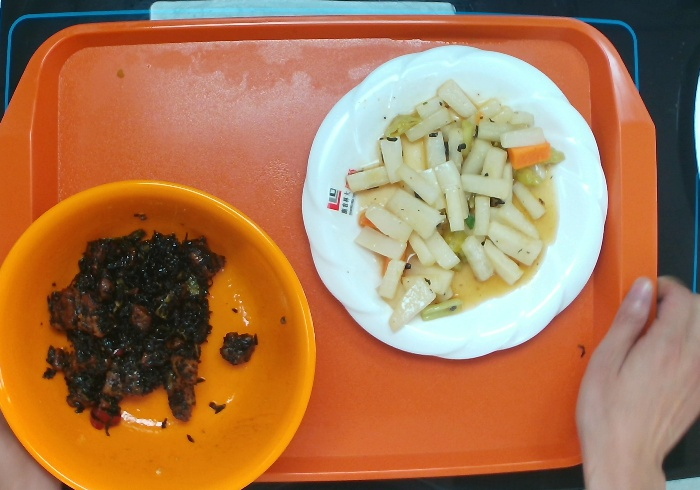ZNLD-Hua_Bian_Wan: (298, 43, 610, 361)
ZNLD-Ju_Se_Tang_Wan: (1, 178, 317, 490)
